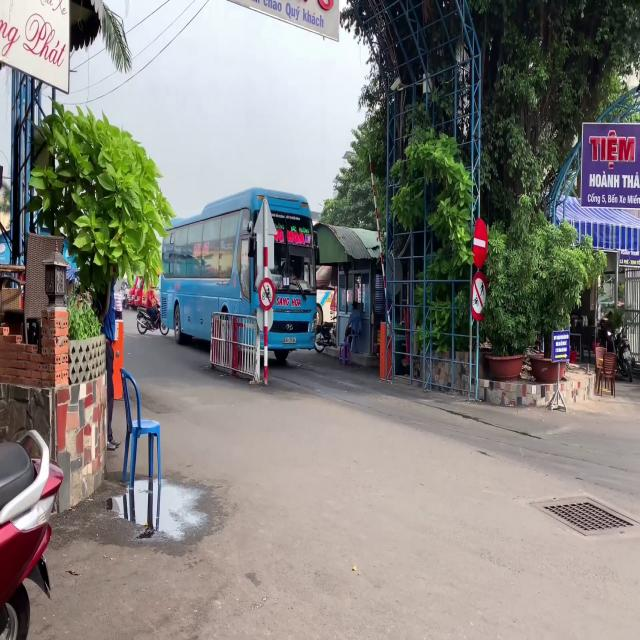bien_trang: (283, 337, 296, 343)
